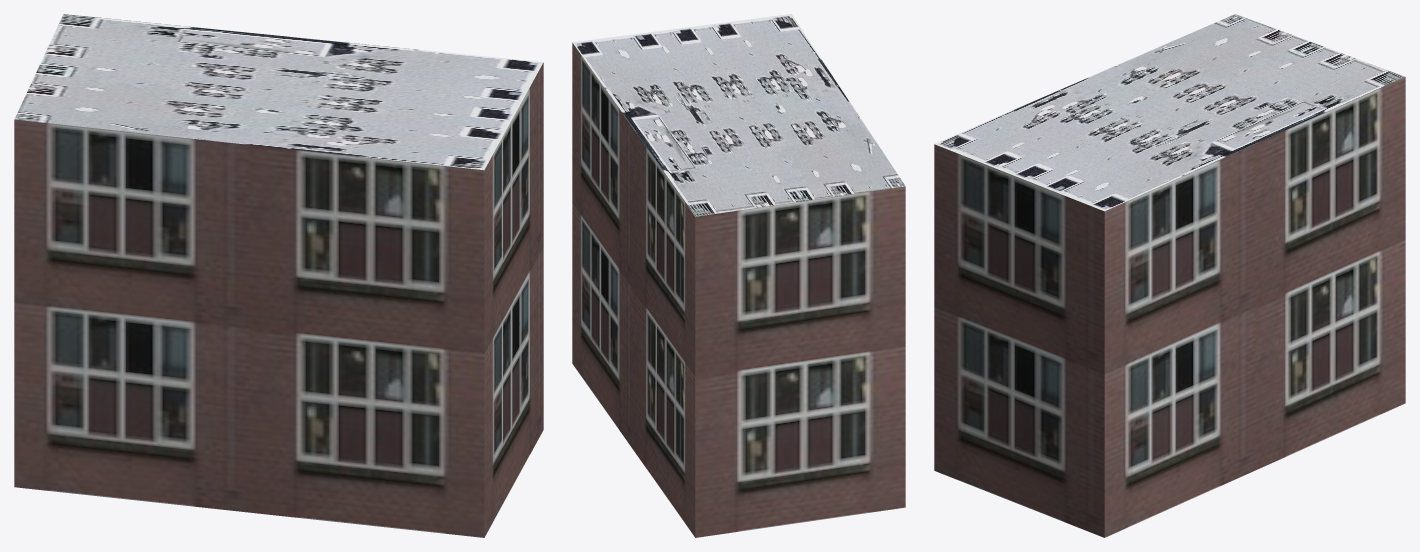
Rendered from ResTex__3195.fbx.
3 renders of one model, left to right at view 1: azimuth 30°, elevation 25°; view 2: azimuth 150°, elevation 25°; view 3: azimuth 270°, elevation 25°, orthographic. The views are drawn at different scales.
Visible parts, largest first — view 1: CityEngineMaterial_12_m, CityEngineMaterial_4_m; view 2: CityEngineMaterial_12_m, CityEngineMaterial_4_m; view 3: CityEngineMaterial_12_m, CityEngineMaterial_4_m.
Boxes of the visible parts, bbox=[...] form: CityEngineMaterial_12_m: bbox=[14, 63, 543, 537]; CityEngineMaterial_4_m: bbox=[14, 14, 543, 170]; CityEngineMaterial_12_m: bbox=[572, 43, 905, 537]; CityEngineMaterial_4_m: bbox=[572, 14, 905, 216]; CityEngineMaterial_12_m: bbox=[934, 77, 1405, 537]; CityEngineMaterial_4_m: bbox=[935, 14, 1405, 211].
Bounding box in the file's own units: 7.78 × 6 × 7.85.
2 materials, 2 textured.
